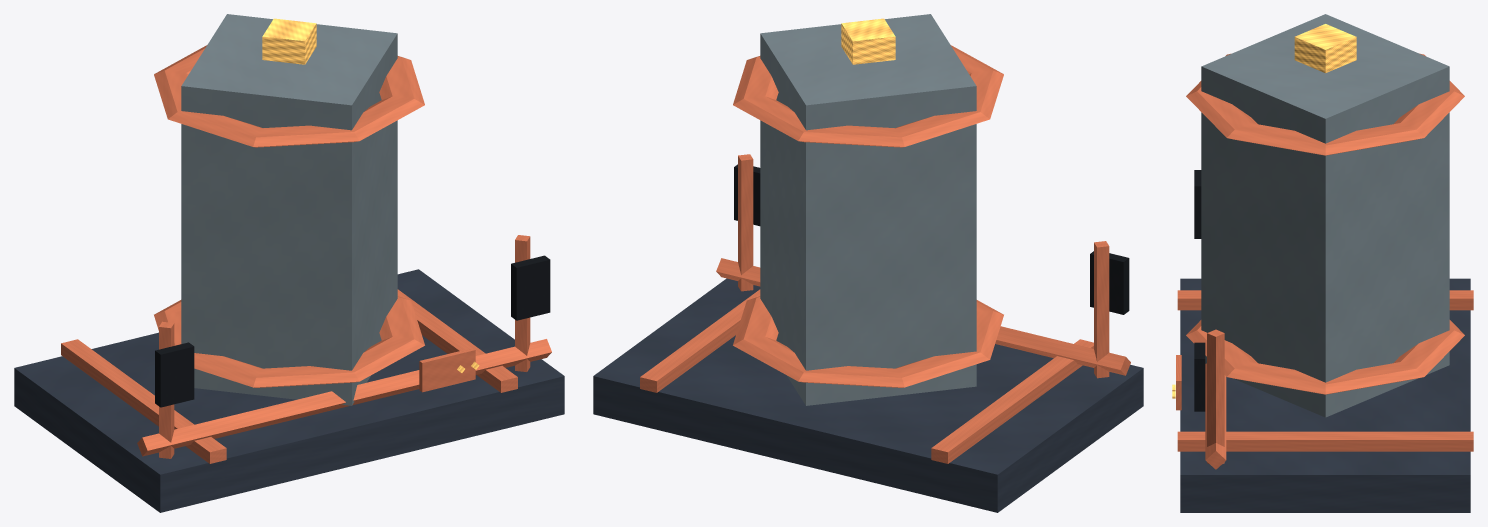
File: atlas100-s022-a02.lod1.glb
The picture shows the model from 3 angles, left to right: view 1: azimuth 30°, elevation 25°; view 2: azimuth 150°, elevation 25°; view 3: azimuth 270°, elevation 25°; orthographic projection.
Visible parts, largest first — view 1: atlas100-s022-a02:part-003, atlas100-s022-a02:part-000, atlas100-s022-a02:part-005, atlas100-s022-a02:part-004, atlas100-s022-a02:part-011, atlas100-s022-a02:part-001, atlas100-s022-a02:part-010, atlas100-s022-a02:part-008, atlas100-s022-a02:part-002, atlas100-s022-a02:part-006, atlas100-s022-a02:part-012, atlas100-s022-a02:part-007 (+1 smaller); view 2: atlas100-s022-a02:part-003, atlas100-s022-a02:part-000, atlas100-s022-a02:part-005, atlas100-s022-a02:part-004, atlas100-s022-a02:part-001, atlas100-s022-a02:part-011, atlas100-s022-a02:part-002, atlas100-s022-a02:part-006, atlas100-s022-a02:part-009, atlas100-s022-a02:part-007, atlas100-s022-a02:part-008, atlas100-s022-a02:part-010; view 3: atlas100-s022-a02:part-003, atlas100-s022-a02:part-000, atlas100-s022-a02:part-005, atlas100-s022-a02:part-002, atlas100-s022-a02:part-004, atlas100-s022-a02:part-006, atlas100-s022-a02:part-009, atlas100-s022-a02:part-001, atlas100-s022-a02:part-010, atlas100-s022-a02:part-011, atlas100-s022-a02:part-008.
Boxes of the visible parts, box(x1,y1,x2,y2) form: atlas100-s022-a02:part-003: box(181, 14, 397, 405); atlas100-s022-a02:part-000: box(14, 269, 564, 512); atlas100-s022-a02:part-005: box(154, 45, 424, 147); atlas100-s022-a02:part-004: box(154, 296, 424, 387); atlas100-s022-a02:part-011: box(137, 339, 551, 456); atlas100-s022-a02:part-001: box(61, 339, 226, 463); atlas100-s022-a02:part-010: box(511, 255, 550, 320); atlas100-s022-a02:part-008: box(155, 342, 194, 407); atlas100-s022-a02:part-002: box(397, 289, 517, 392); atlas100-s022-a02:part-006: box(262, 18, 316, 64); atlas100-s022-a02:part-012: box(419, 348, 475, 392); atlas100-s022-a02:part-007: box(159, 321, 174, 458); atlas100-s022-a02:part-003: box(760, 14, 976, 405); atlas100-s022-a02:part-000: box(593, 278, 1143, 512); atlas100-s022-a02:part-005: box(733, 45, 1003, 147); atlas100-s022-a02:part-004: box(733, 296, 1003, 387); atlas100-s022-a02:part-001: box(931, 339, 1093, 463); atlas100-s022-a02:part-011: box(716, 258, 1130, 375); atlas100-s022-a02:part-002: box(640, 289, 760, 392); atlas100-s022-a02:part-006: box(841, 18, 895, 64); atlas100-s022-a02:part-009: box(738, 154, 753, 291); atlas100-s022-a02:part-007: box(1094, 241, 1109, 378); atlas100-s022-a02:part-008: box(1090, 251, 1129, 314); atlas100-s022-a02:part-010: box(734, 164, 760, 226); atlas100-s022-a02:part-003: box(1201, 14, 1449, 417); atlas100-s022-a02:part-000: box(1180, 278, 1470, 512); atlas100-s022-a02:part-005: box(1186, 53, 1464, 155); atlas100-s022-a02:part-002: box(1177, 431, 1473, 451); atlas100-s022-a02:part-004: box(1186, 320, 1464, 394); atlas100-s022-a02:part-006: box(1294, 24, 1356, 73); atlas100-s022-a02:part-009: box(1207, 329, 1224, 463); atlas100-s022-a02:part-001: box(1177, 290, 1473, 310); atlas100-s022-a02:part-010: box(1194, 342, 1205, 411); atlas100-s022-a02:part-011: box(1205, 363, 1226, 469); atlas100-s022-a02:part-008: box(1194, 170, 1201, 238).
Size of the model in its own units: 2.88 by 2.59 by 1.87.
5 materials, 5 textured.
